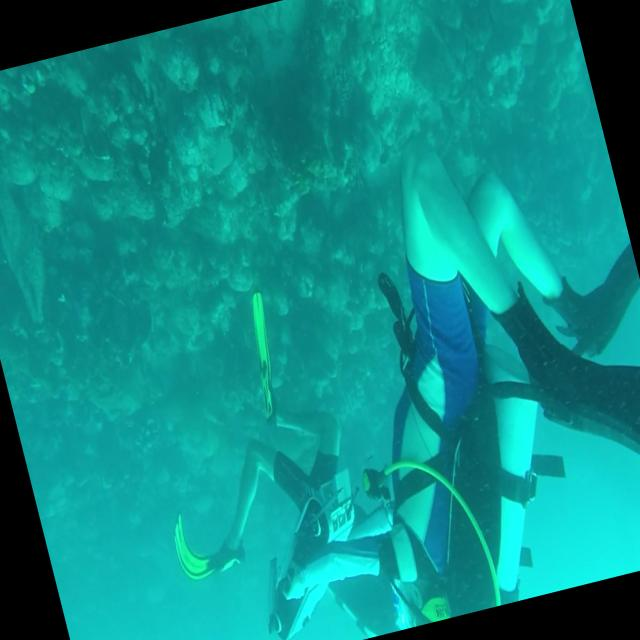human: (166, 93, 640, 640), (118, 270, 419, 640)
